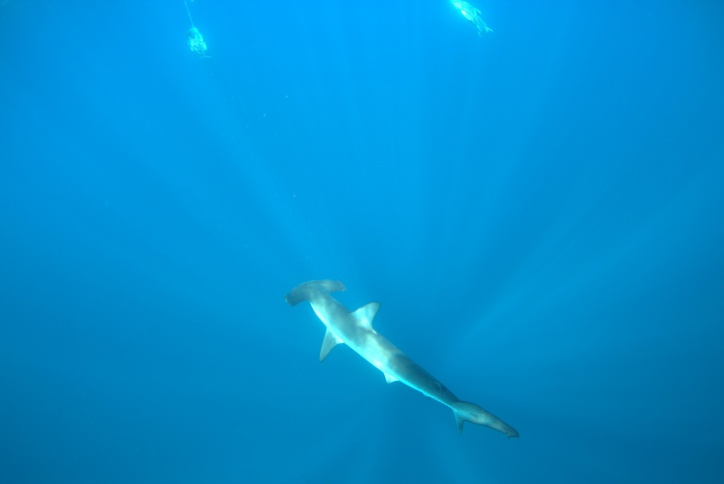Hammer: (261, 253, 539, 459)
